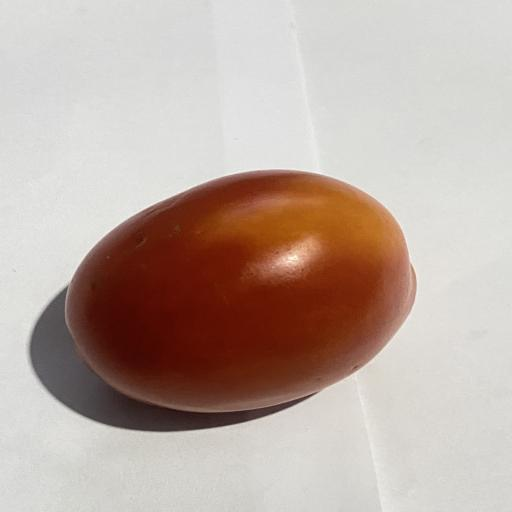ripe: (66, 170, 416, 412)
